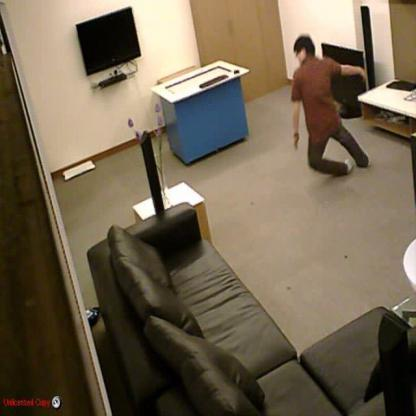Person: (290, 35, 369, 176)
